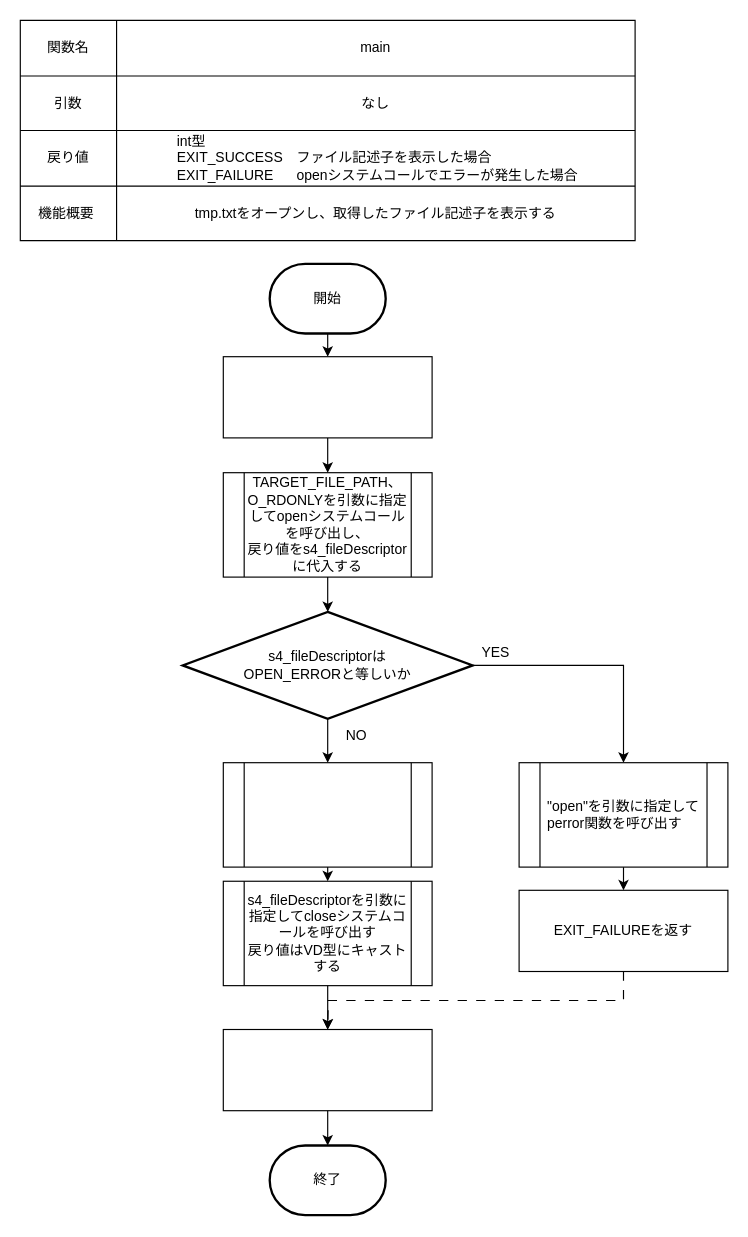
Image size: 748x1237. Some labels were removed from this diagram. Here are the shapes that lost their labels. From the top down, the box of each, then its label:
(222, 356, 432, 438): ファイル記述子格納用のS4型変数 s4_fileDescriptorを定義する
(222, 762, 432, 867): printf("tmp.txtのファイル記述子は%dである。\n", s4_fileDescriptor);
(222, 1028, 432, 1111): EXIT_SUCCESSを返す
